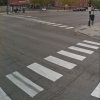crosswalk: (0, 39, 100, 100), (18, 16, 73, 29)
